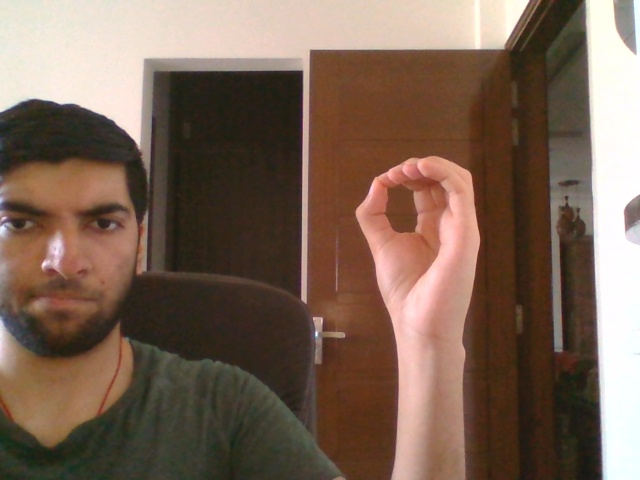LetterO: (354, 154, 482, 338)
